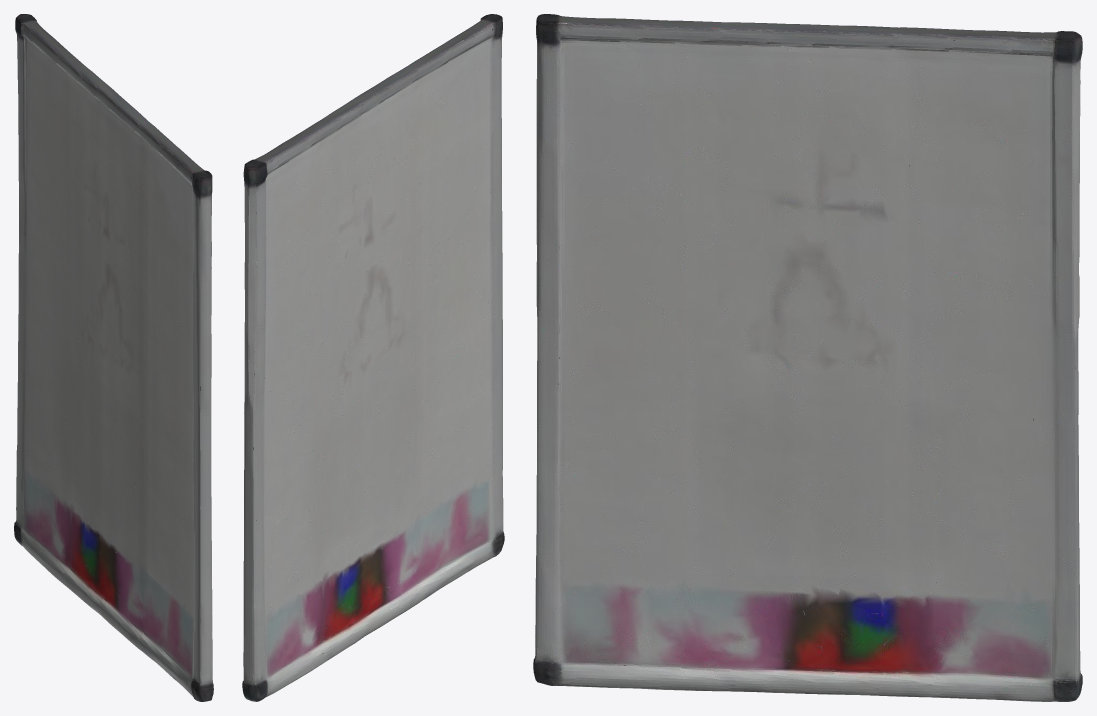
The model's file is whiteboard_on_the_right_wall_000.glb.
3 views of the same model, side by side, from view 1: azimuth 30°, elevation 25°; view 2: azimuth 150°, elevation 25°; view 3: azimuth 270°, elevation 25° (orthographic). The views are drawn at different scales.
Visible parts, largest first — view 1: phase2_final_whiteboard_on_the_right_wall_000.obj; view 2: phase2_final_whiteboard_on_the_right_wall_000.obj; view 3: phase2_final_whiteboard_on_the_right_wall_000.obj.
Boxes of the visible parts, left/top/right/bottom form: phase2_final_whiteboard_on_the_right_wall_000.obj: left=14, top=14, right=213, bottom=701; phase2_final_whiteboard_on_the_right_wall_000.obj: left=242, top=14, right=504, bottom=701; phase2_final_whiteboard_on_the_right_wall_000.obj: left=533, top=14, right=1082, bottom=701.
Size of the model in its own units: 0.0404 by 0.4416 by 0.3307.
Materials: 1 (1 with a texture image).
